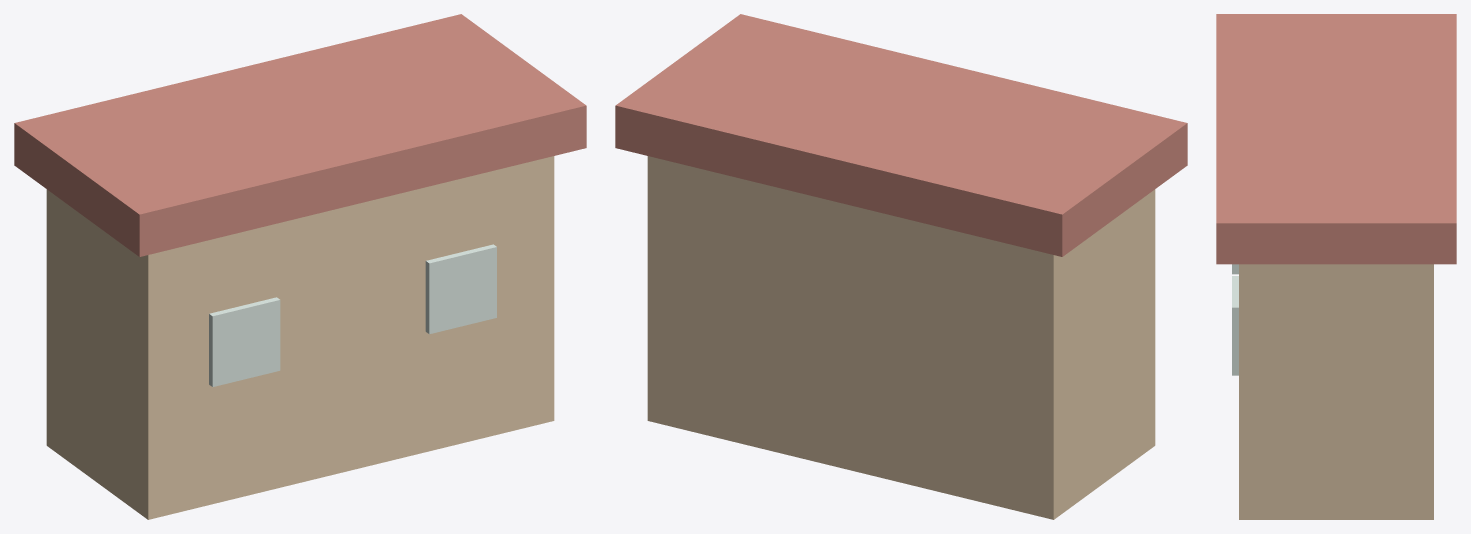
File: house_demo.glb
3 renders of one model, left to right at view 1: azimuth 30°, elevation 25°; view 2: azimuth 150°, elevation 25°; view 3: azimuth 270°, elevation 25°, orthographic. The views are drawn at different scales.
Visible parts, largest first — view 1: Part0, Part1, Part2, Part3; view 2: Part0, Part1; view 3: Part1, Part0, Part3.
Part boxes in pixels (x1,y1,x2,y2): Part0: (46,156,554,519); Part1: (14,14,586,256); Part2: (209,297,280,386); Part3: (425,244,496,334); Part0: (647,156,1155,519); Part1: (615,14,1187,256); Part1: (1216,14,1456,264); Part0: (1239,264,1433,519); Part3: (1232,276,1238,375).
Bounding box in the file's own units: 3.3 × 2.25 × 1.6.
